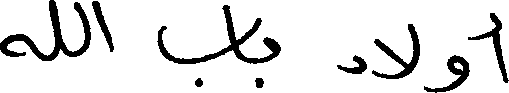أ: (490, 11, 507, 83)
ا: (91, 0, 114, 52), (223, 2, 240, 60)
ب: (155, 2, 224, 86), (251, 34, 281, 87)
د: (339, 53, 367, 74)
ل: (73, 0, 90, 58), (48, 0, 63, 62)
لا: (371, 21, 419, 79)
ه: (0, 31, 31, 57)
و: (421, 35, 469, 91)
